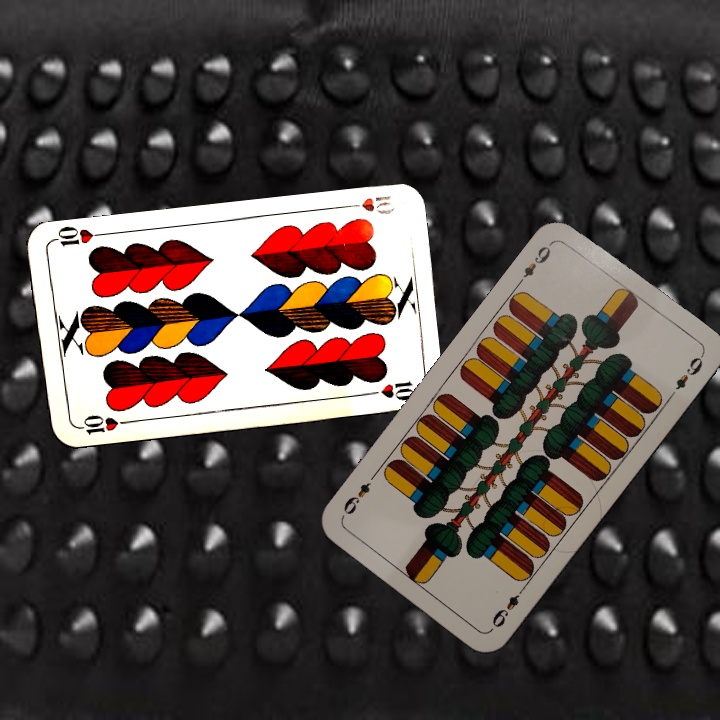E9: (514, 237, 556, 287), (488, 582, 528, 630)
H10: (71, 410, 131, 437), (339, 191, 397, 218)
